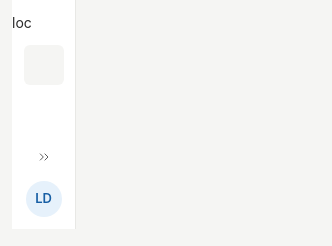
Test: NavRail › shows the auth-bypass notice instead of a name in local dev
Click the button with aria-label "Account and settings" at (44, 199), box [26,181,62,217]
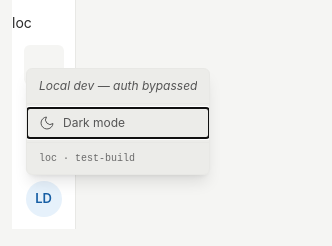
Result: the menu shows "Local dev — auth bypassed" at [39,78,197,93]
